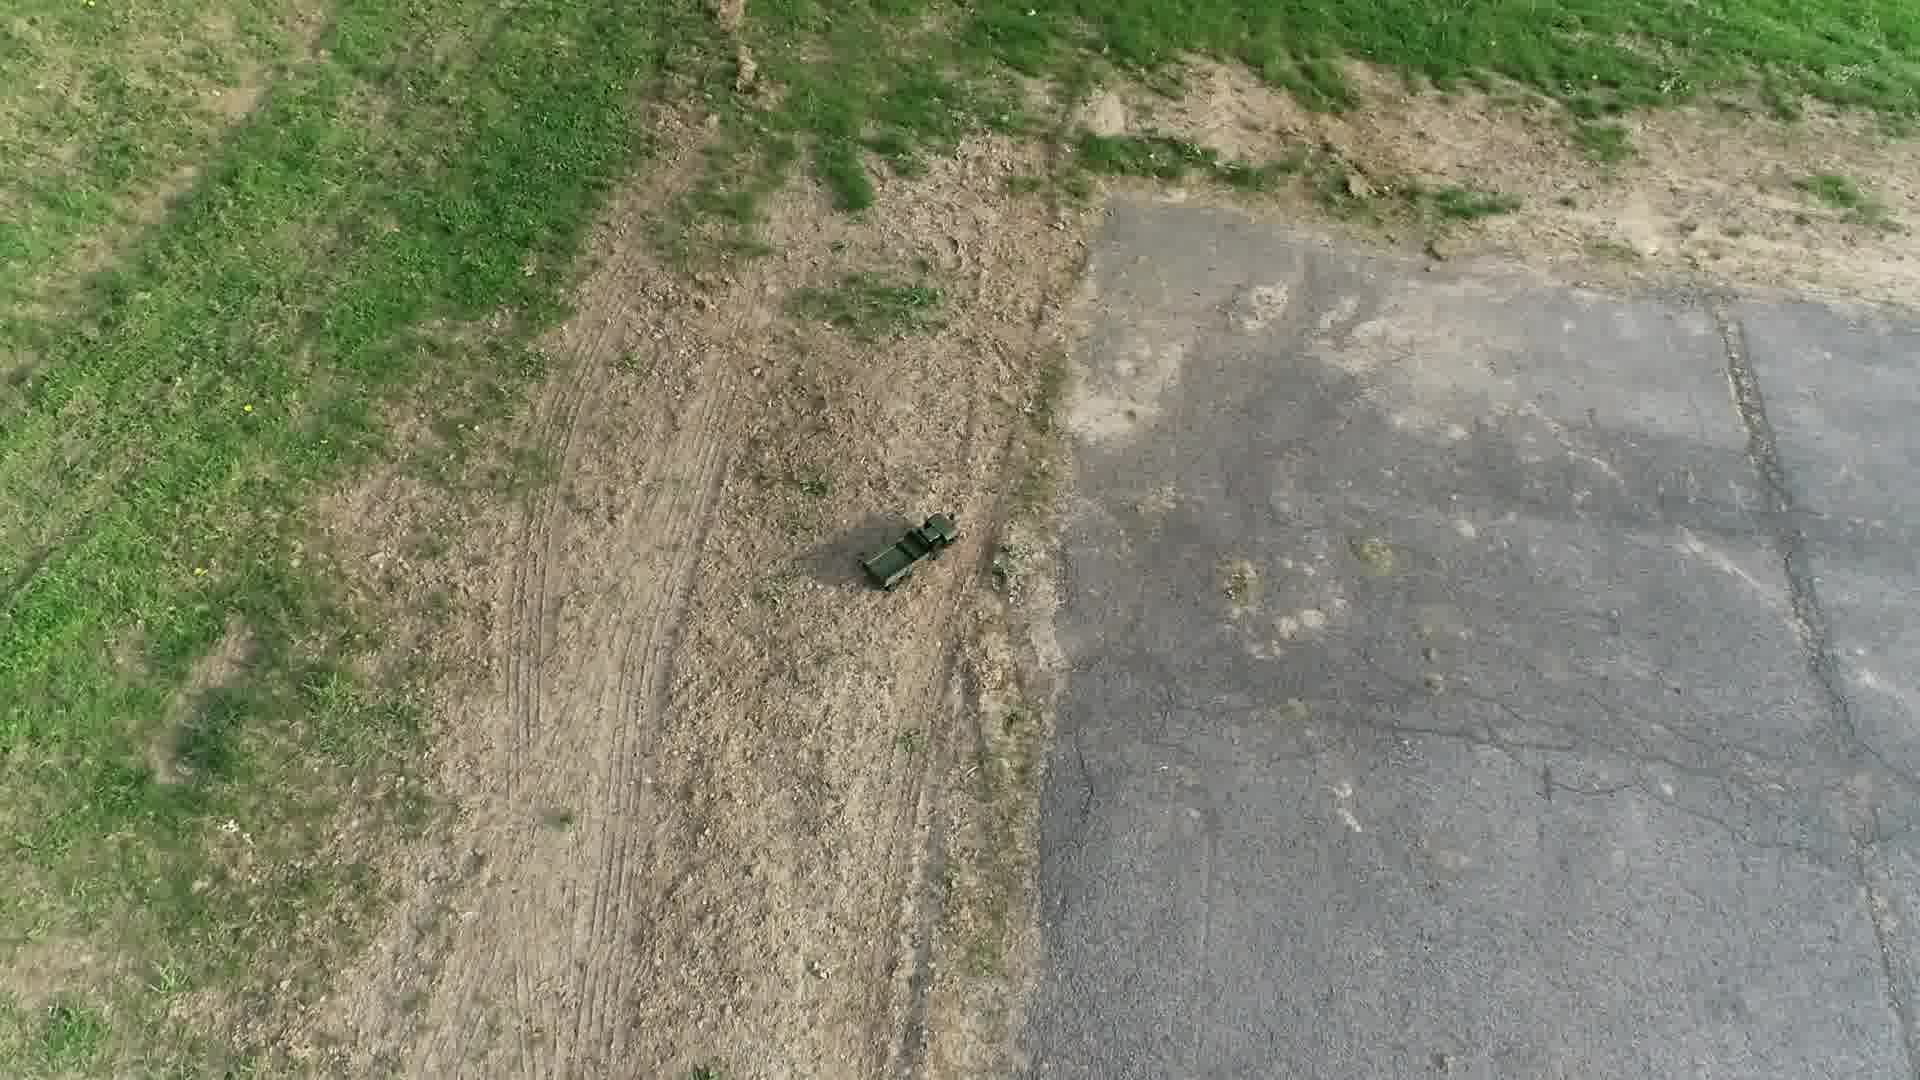transporter9: (855, 506, 968, 593)
